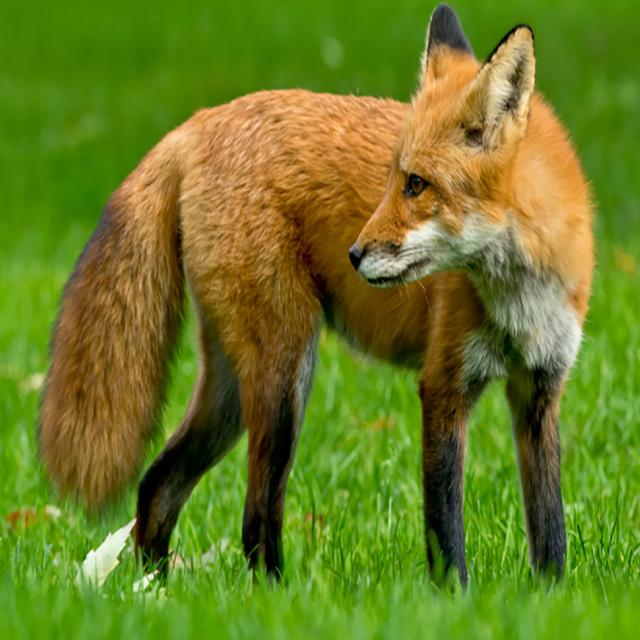Fox: (38, 8, 596, 584)
